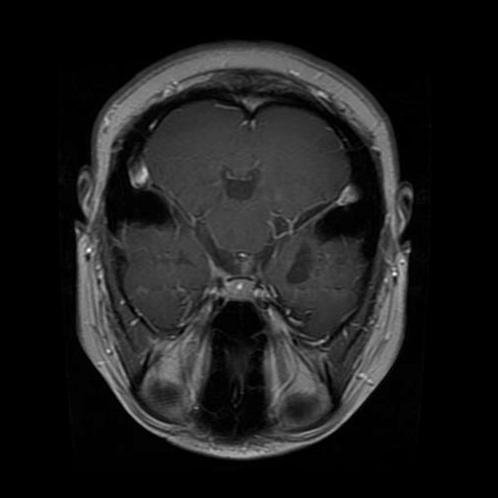Tumour-Glioma: (275, 231, 340, 306)
